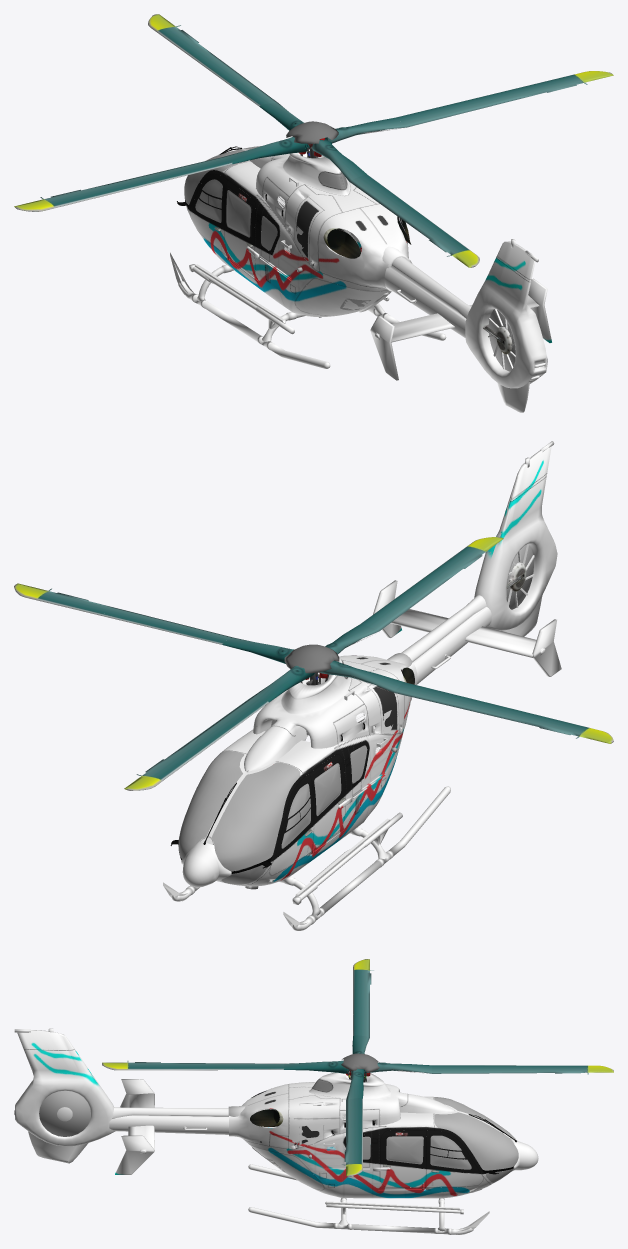
The model's file is helicopter.glb.
3 views of the same model, one above another, from view 1: azimuth 30°, elevation 25°; view 2: azimuth 150°, elevation 25°; view 3: azimuth 270°, elevation 25° (orthographic). The views are drawn at different scales.
Visible parts, largest first — view 1: fuselage, IBF, longskid_floats, reardoor_L, backdoor_L, frontdoor_L, blade4d, blade2d, blade1d, blade3d, exhaust, backdoorglas_L (+13 smaller); view 2: fuselage, windscreen, windscreen_tri, longskid_floats, IBF, backdoor_L, frontdoor_L, BigRadom, blade2d, blade3d, blade4d, rotorcap (+13 smaller); view 3: fuselage, windscreen, nonIBF, longskid_floats, backdoor_R, rotor_disc_T, frontdoor_R, windscreen_tri, IBF, frontdoorglas_R, backdoorglas_R, reardoor_R (+14 smaller).
Boxes of the visible parts, x1,y1,x2,y2 form: fuselage: [177, 149, 551, 412]; IBF: [285, 182, 378, 271]; longskid_floats: [178, 250, 446, 368]; reardoor_L: [295, 278, 387, 315]; backdoor_L: [224, 180, 259, 273]; frontdoor_L: [190, 173, 227, 254]; blade4d: [14, 184, 117, 211]; blade2d: [511, 71, 613, 98]; blade1d: [415, 223, 479, 267]; blade3d: [148, 14, 211, 58]; exhaust: [323, 216, 411, 258]; backdoorglas_L: [226, 190, 251, 237]; fuselage: [170, 441, 561, 886]; windscreen: [178, 751, 299, 870]; windscreen_tri: [178, 751, 300, 871]; longskid_floats: [172, 786, 450, 930]; IBF: [342, 660, 404, 734]; backdoor_L: [309, 754, 352, 854]; frontdoor_L: [269, 773, 313, 875]; BigRadom: [181, 841, 231, 887]; blade2d: [14, 583, 113, 615]; blade3d: [124, 748, 199, 790]; blade4d: [513, 711, 613, 743]; rotorcap: [284, 644, 339, 673]; fuselage: [14, 1028, 514, 1198]; windscreen: [434, 1097, 518, 1170]; nonIBF: [288, 1086, 339, 1149]; longskid_floats: [248, 1164, 473, 1234]; backdoor_R: [373, 1130, 426, 1190]; rotor_disc_T: [39, 1090, 90, 1136]; frontdoor_R: [426, 1130, 483, 1187]; windscreen_tri: [434, 1097, 518, 1170]; IBF: [289, 1082, 339, 1149]; frontdoorglas_R: [430, 1135, 471, 1169]; backdoorglas_R: [386, 1136, 423, 1164]; reardoor_R: [249, 1144, 324, 1190].
Size of the model in its own units: 10.1 by 3.98 by 11.84.
Materials: 25 (16 with a texture image).
